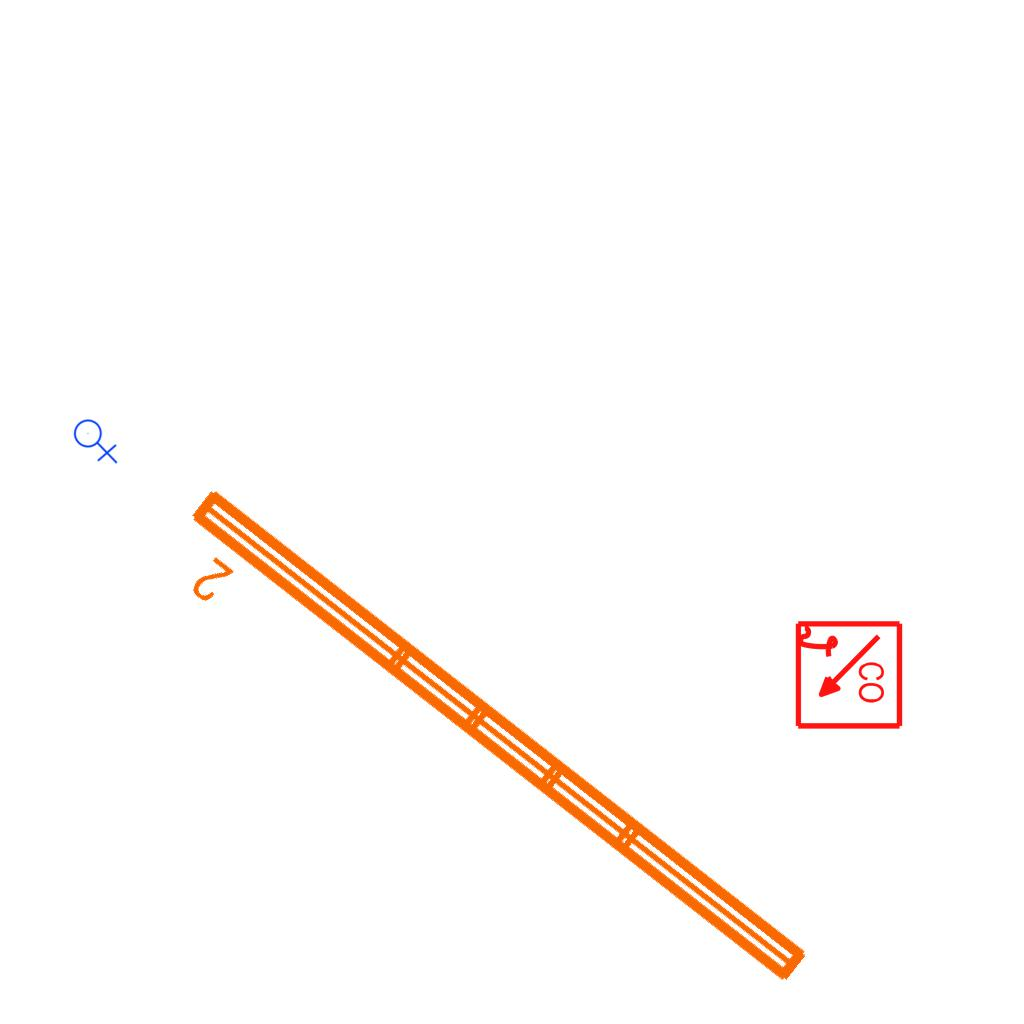Ambulanz_Pendelleuchte_LED: (144, 473, 824, 1024)
Elektroanschluss_allgemein_230V_Geraeteanschlussdose_230V: (73, 415, 120, 464)
ROA_Rauchmelder_optisch_mit_Signalgeber_(Sockelsirene): (791, 619, 904, 732)
